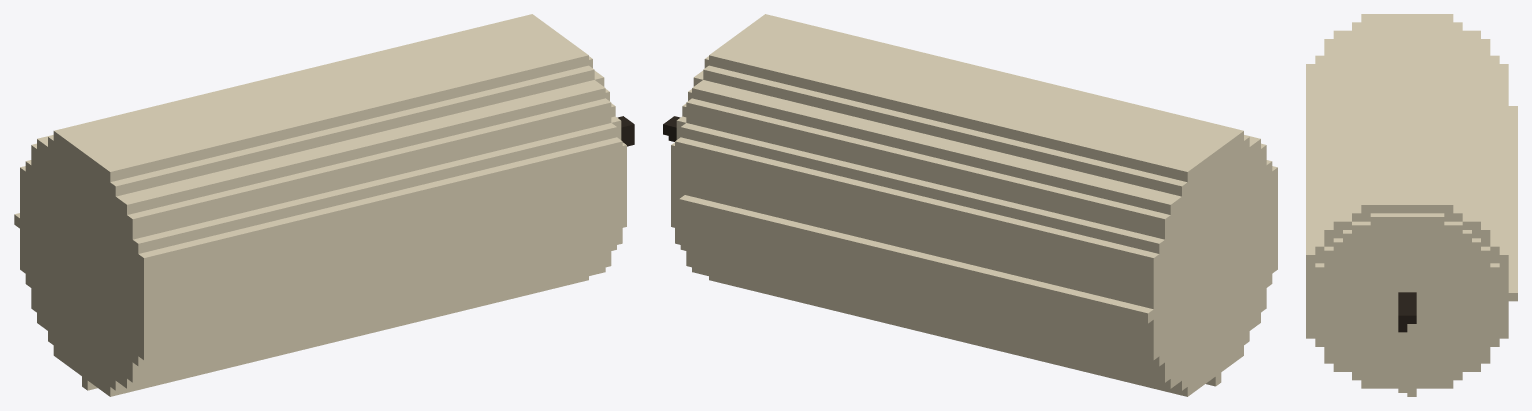
File: candle.glb
The picture shows the model from 3 angles, left to right: view 1: azimuth 30°, elevation 25°; view 2: azimuth 150°, elevation 25°; view 3: azimuth 270°, elevation 25°; orthographic projection. The views are drawn at different scales.
Parts seen in each view (by area): view 1: candle:candle; view 2: candle:candle; view 3: candle:candle.
Part boxes in pixels (left/top/right/bottom): candle:candle: left=14, top=14, right=634, bottom=396; candle:candle: left=663, top=14, right=1277, bottom=396; candle:candle: left=1306, top=14, right=1517, bottom=396.
Size of the model in its own units: 0.112 by 0.046 by 0.046.
